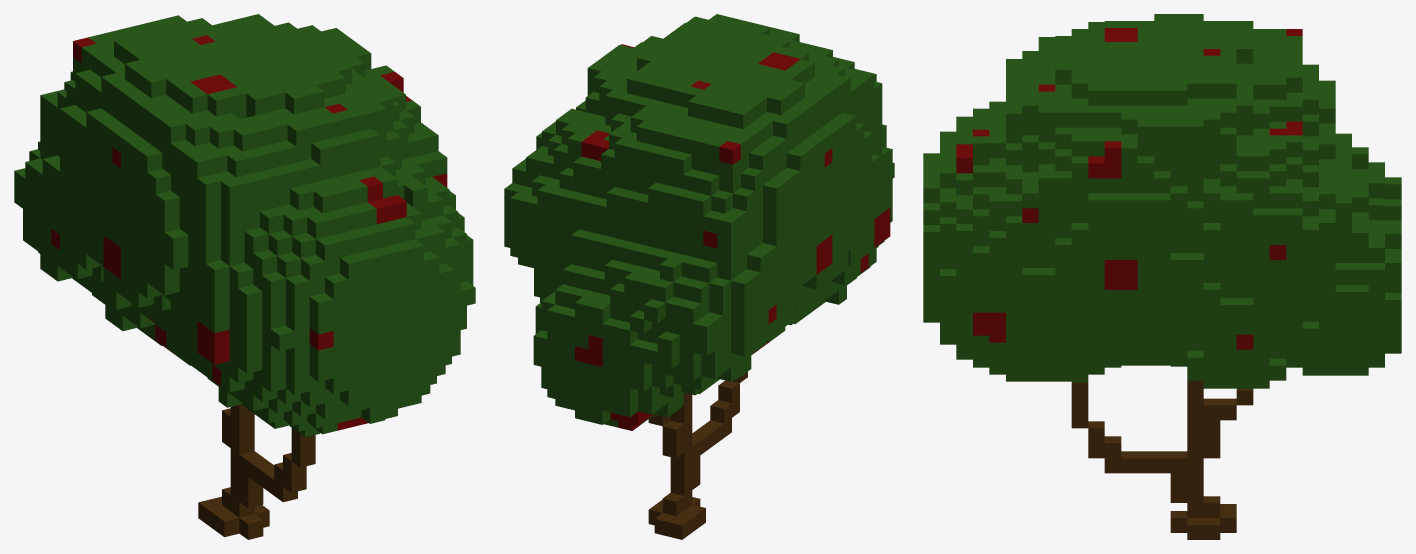
The model's file is bush5.obj.
The picture shows the model from 3 angles, left to right: view 1: azimuth 30°, elevation 25°; view 2: azimuth 150°, elevation 25°; view 3: azimuth 270°, elevation 25°; orthographic projection. The views are drawn at different scales.
Size of the model in its own units: 1.8 by 3.1 by 2.9.
Materials: 1 (1 with a texture image).
